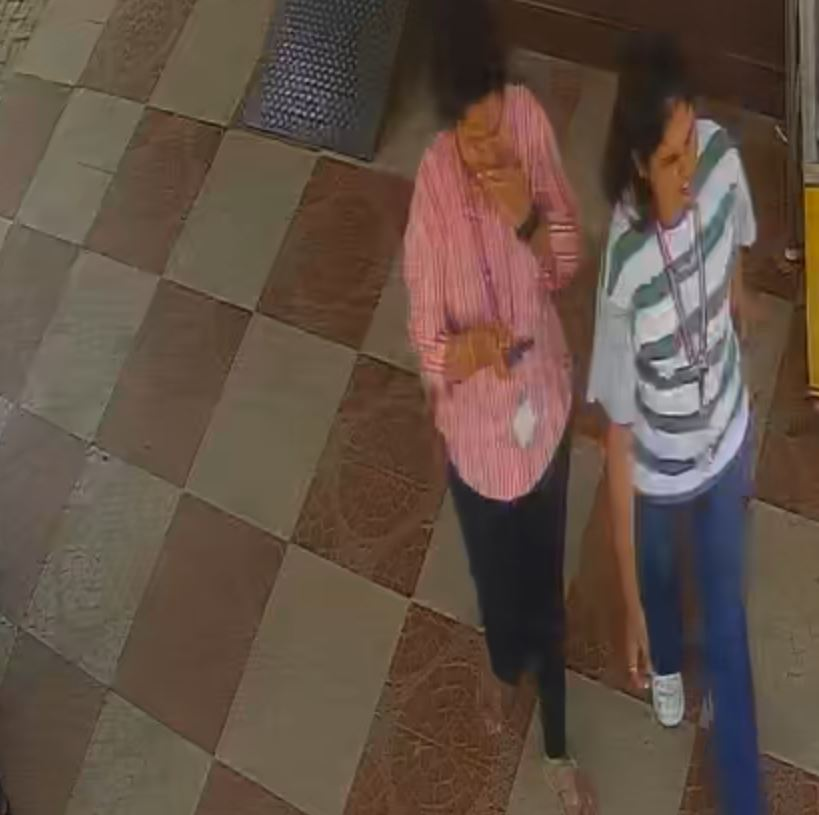not intruder: (578, 29, 772, 815), (415, 4, 594, 804)
